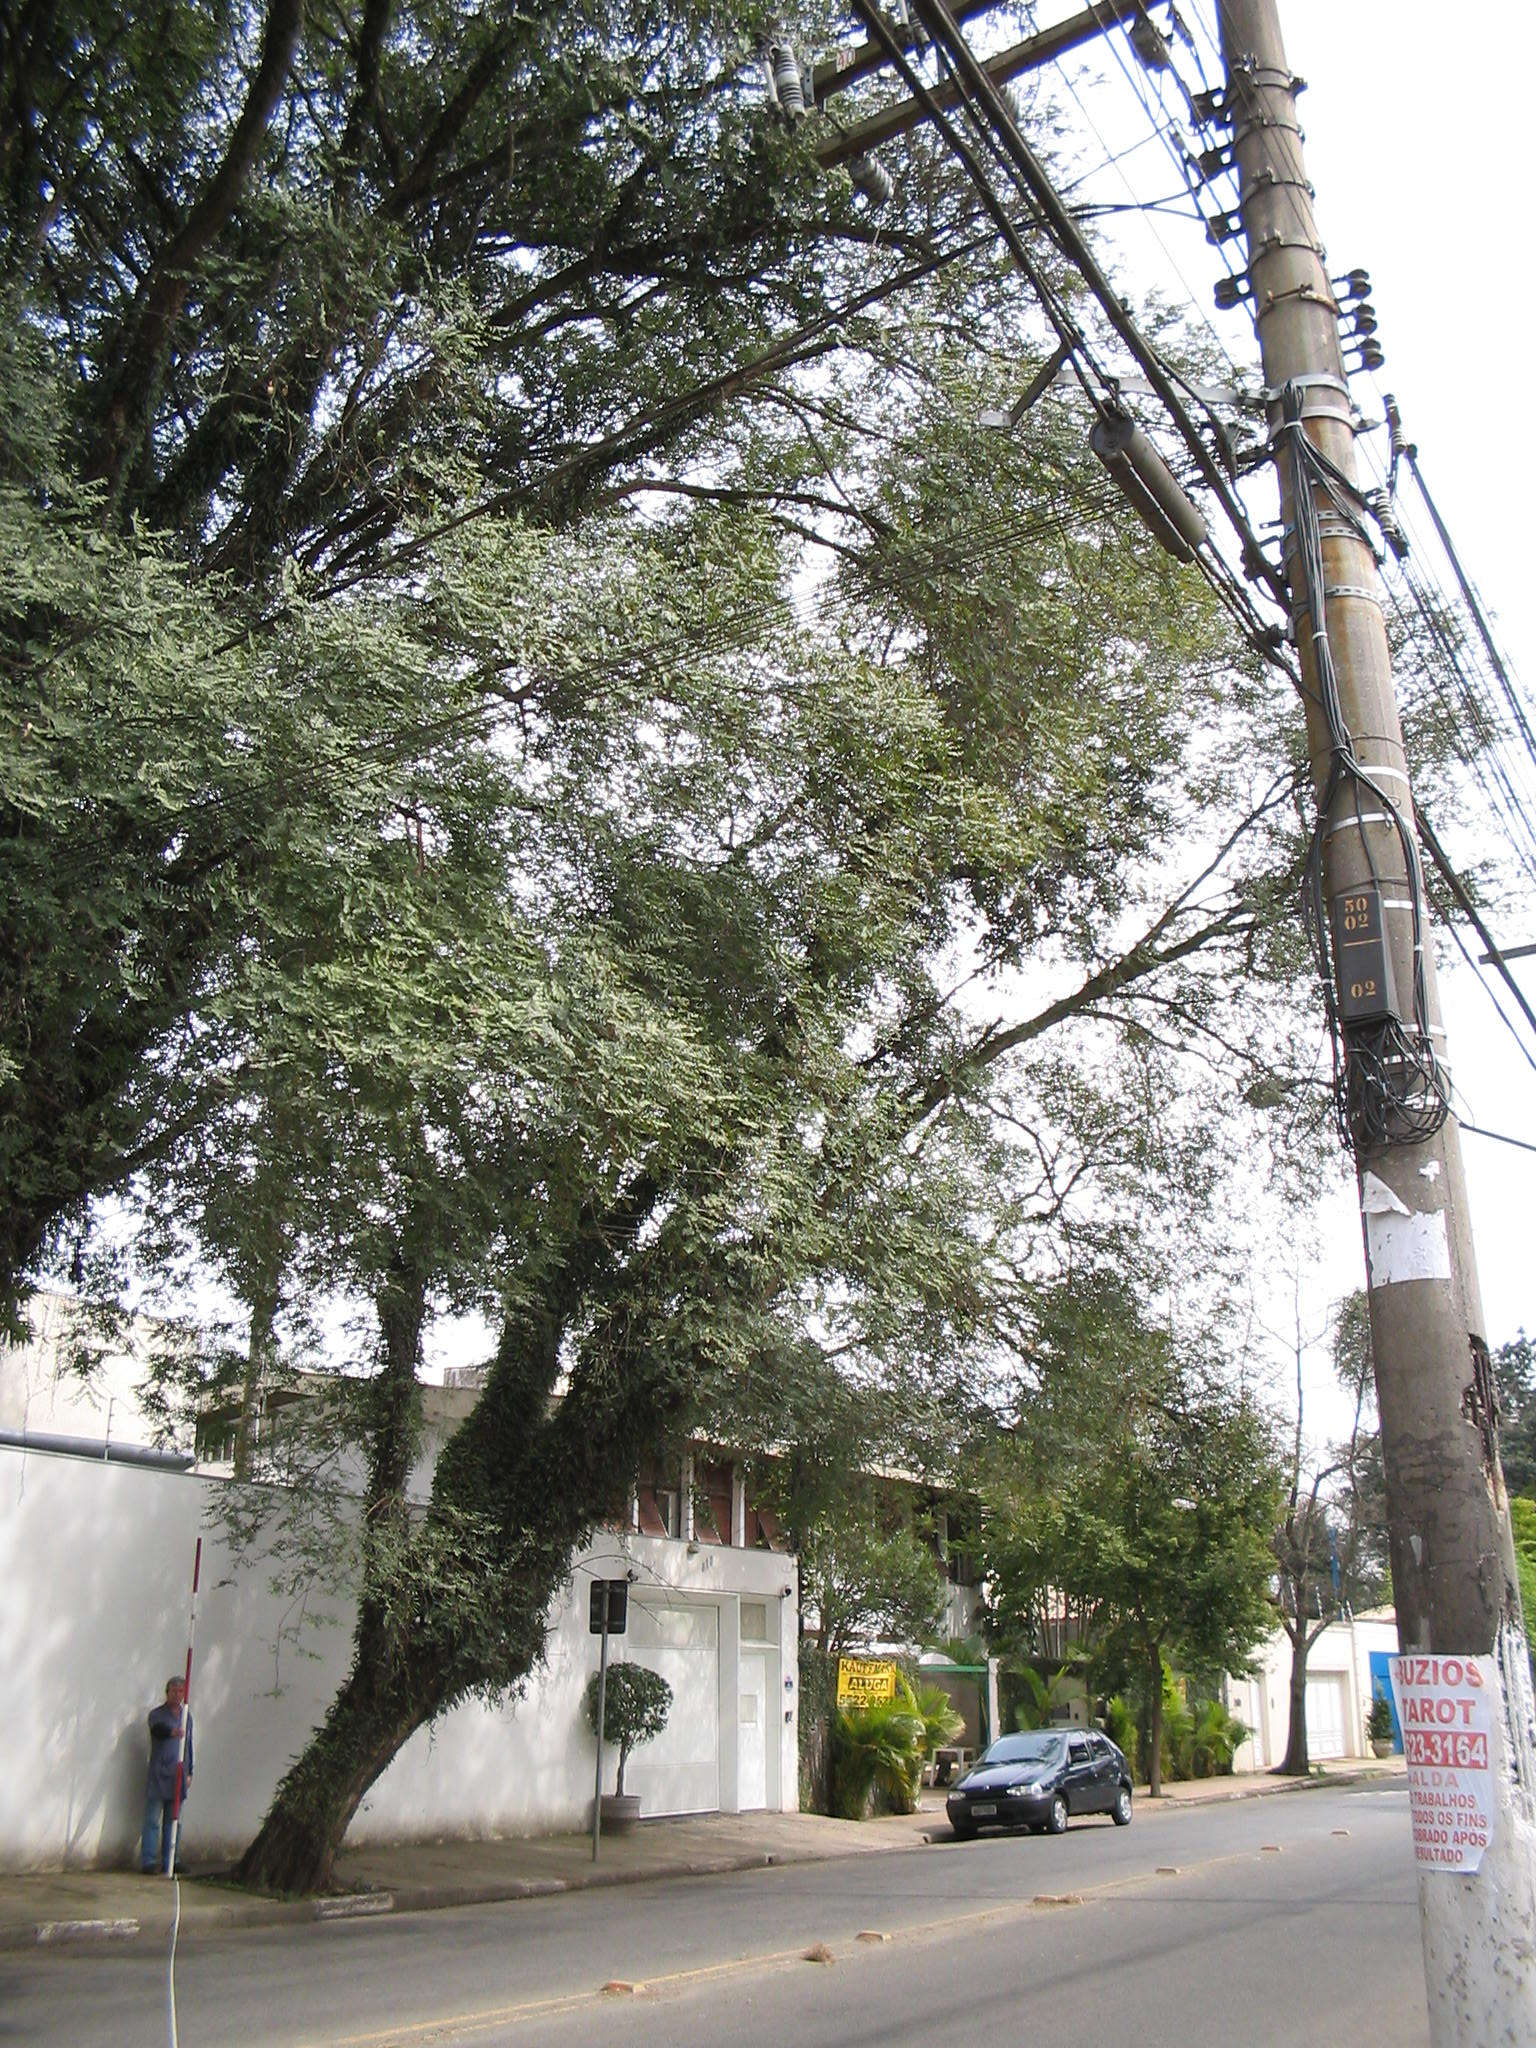stem: (231, 1650, 532, 1896)
stick: (140, 1534, 224, 1872)
tree: (239, 447, 1515, 1904)
